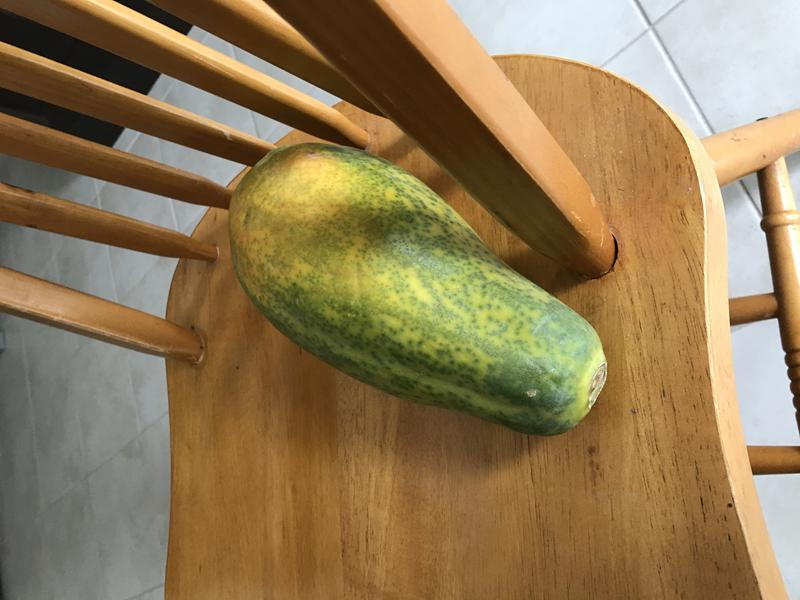papaya: (203, 133, 620, 449)
